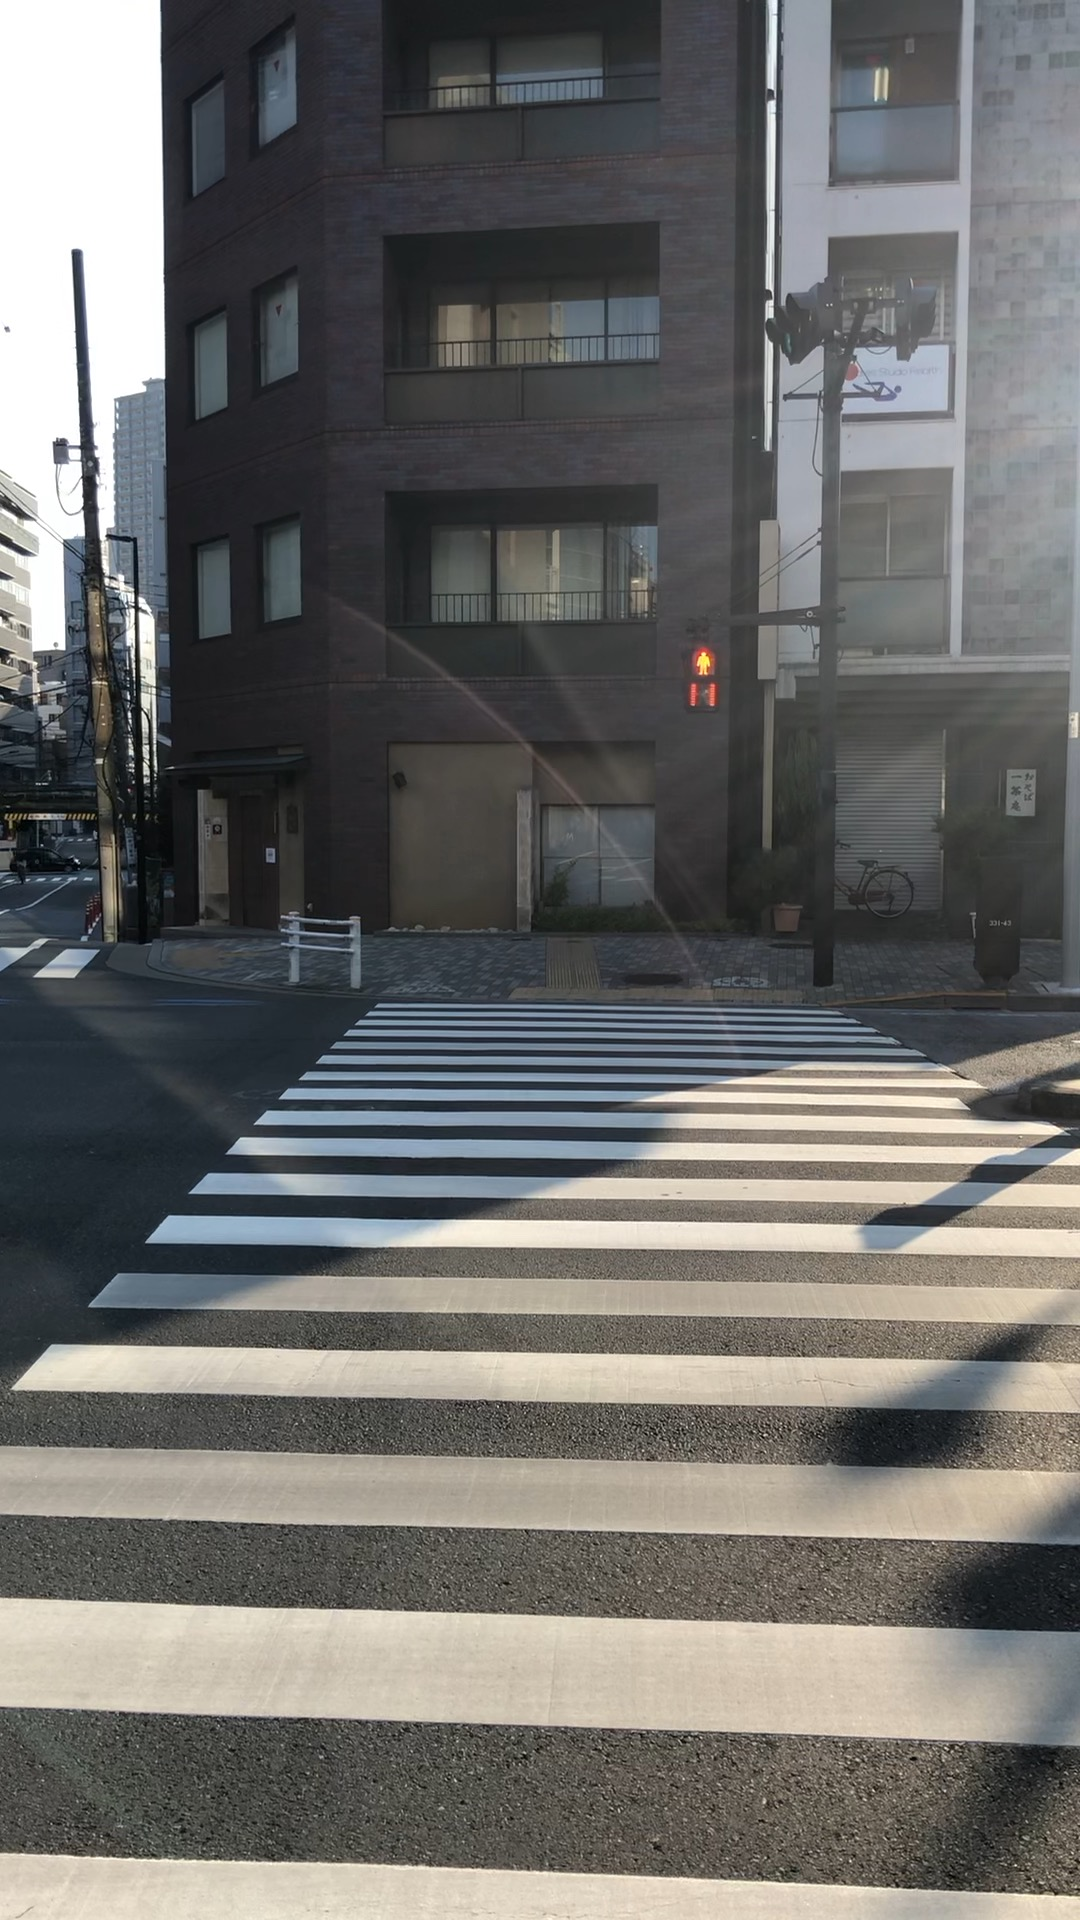red: (683, 645, 723, 715)
